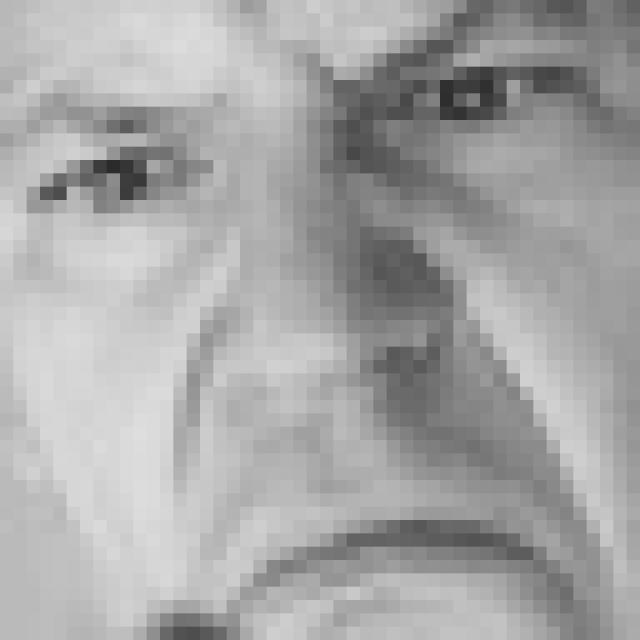disgust: (10, 1, 612, 640)
